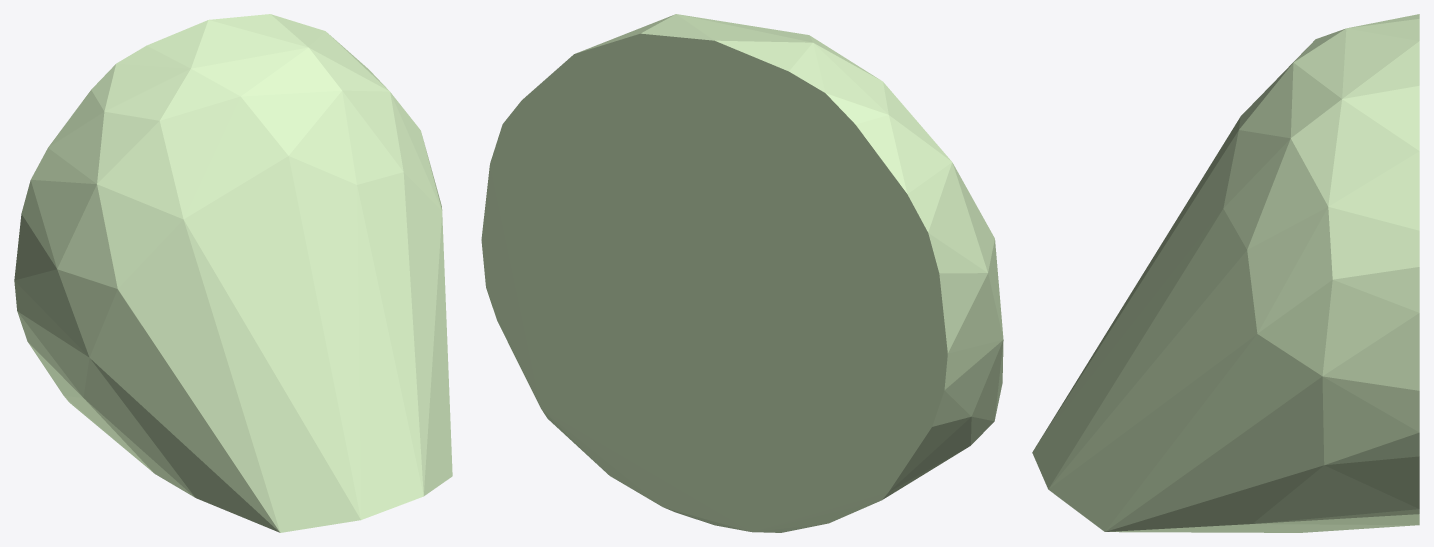
File: kuka_link6_resp_coll_4.dae
3 views of the same model, side by side, from view 1: azimuth 30°, elevation 25°; view 2: azimuth 150°, elevation 25°; view 3: azimuth 270°, elevation 25° (orthographic). The views are drawn at different scales.
Parts seen in each view (by area): view 1: Node_0000015C5C916960; view 2: Node_0000015C5C916960; view 3: Node_0000015C5C916960.
Part boxes in pixels (x1=…): Node_0000015C5C916960: x1=14, y1=14, x2=452, y2=532; Node_0000015C5C916960: x1=481, y1=14, x2=1003, y2=532; Node_0000015C5C916960: x1=1032, y1=14, x2=1419, y2=532.
Bounding box in the file's own units: 0.1358 × 0.1381 × 0.1034.
